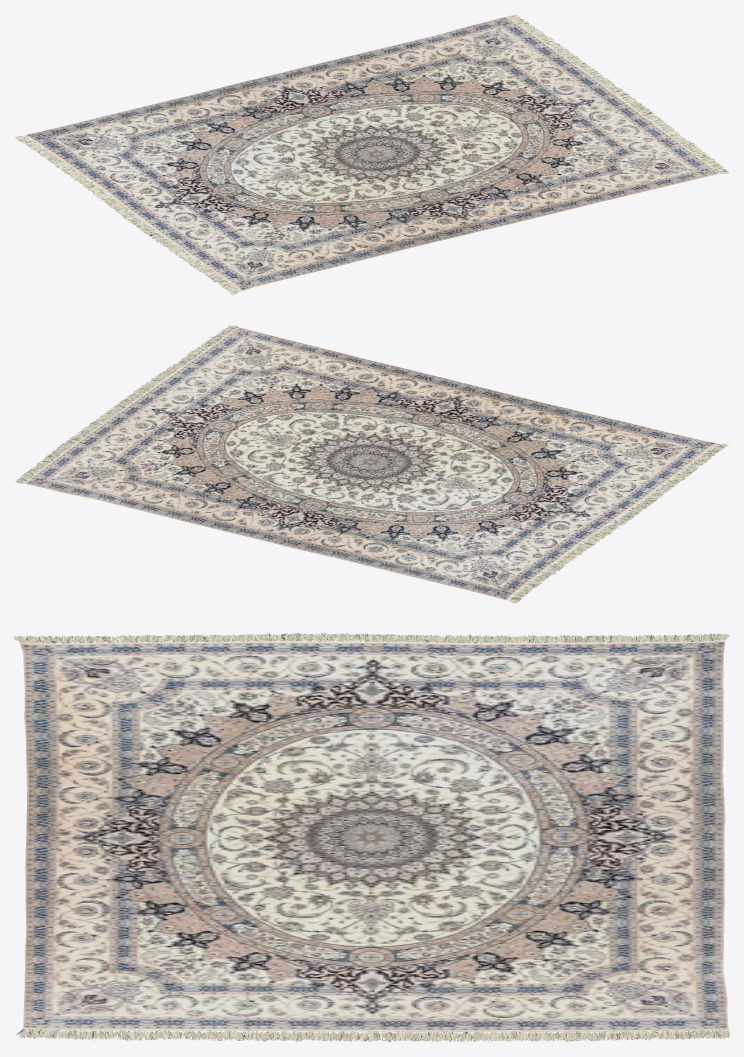
The model's file is carpet-nain.glb.
3 views of the same model, one above another, from view 1: azimuth 30°, elevation 25°; view 2: azimuth 150°, elevation 25°; view 3: azimuth 270°, elevation 25° (orthographic). The views are drawn at different scales.
Visible parts, largest first — view 1: Object_0, Object_1; view 2: Object_0, Object_1; view 3: Object_0, Object_1.
Part boxes in pixels (<box>): Object_0: <box>24,16,719,291</box>; Object_1: <box>14,14,729,295</box>; Object_0: <box>25,327,717,600</box>; Object_1: <box>15,325,728,603</box>; Object_0: <box>20,640,728,1032</box>; Object_1: <box>14,632,729,1041</box>.
Bounding box in the file's own units: 3 × 0.0187 × 2.22.
Materials: 2 (1 with a texture image).
